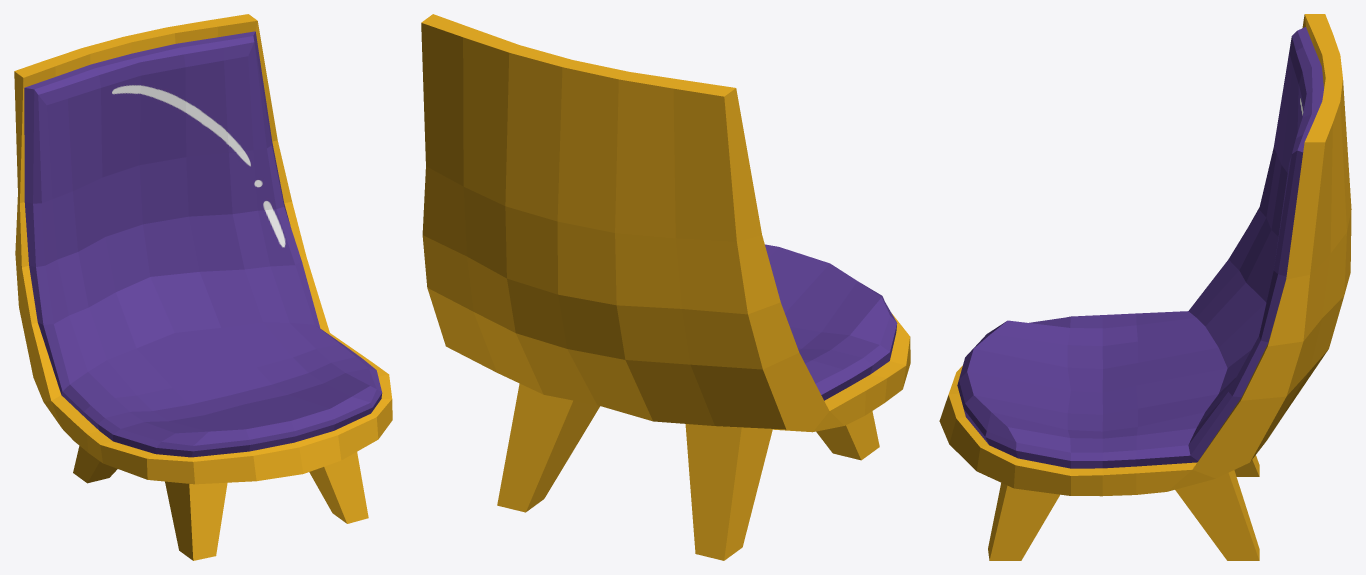
File: scene6_chair.glb
3 views of the same model, side by side, from view 1: azimuth 30°, elevation 25°; view 2: azimuth 150°, elevation 25°; view 3: azimuth 270°, elevation 25° (orthographic). The views are drawn at different scales.
Visible parts, largest first — view 1: Chair Cushion; view 2: Chair Cushion; view 3: Chair Cushion.
Part boxes in pixels (x1,y1,x2,y2): Chair Cushion: (14,14,392,560); Chair Cushion: (421,14,910,560); Chair Cushion: (939,14,1351,560).
Size of the model in its own units: 2.03 by 2.61 by 2.24.
2 materials, 1 textured.
